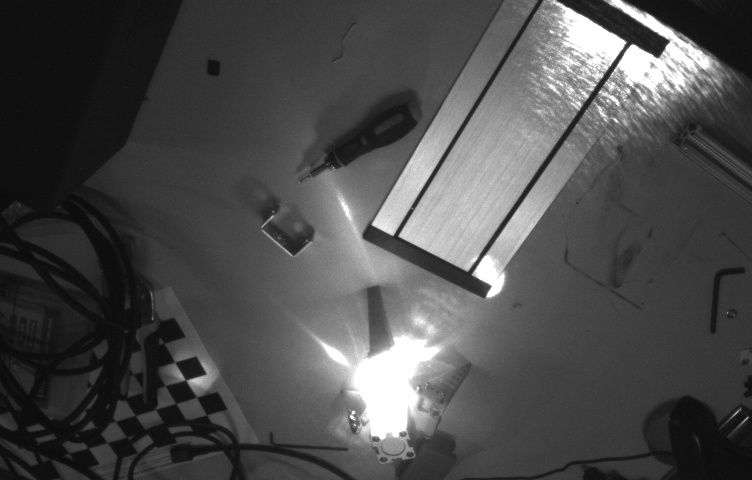Object precision screwdriver - Material rubber - Color black and orange - Pdfnam: (343, 361, 453, 422)
